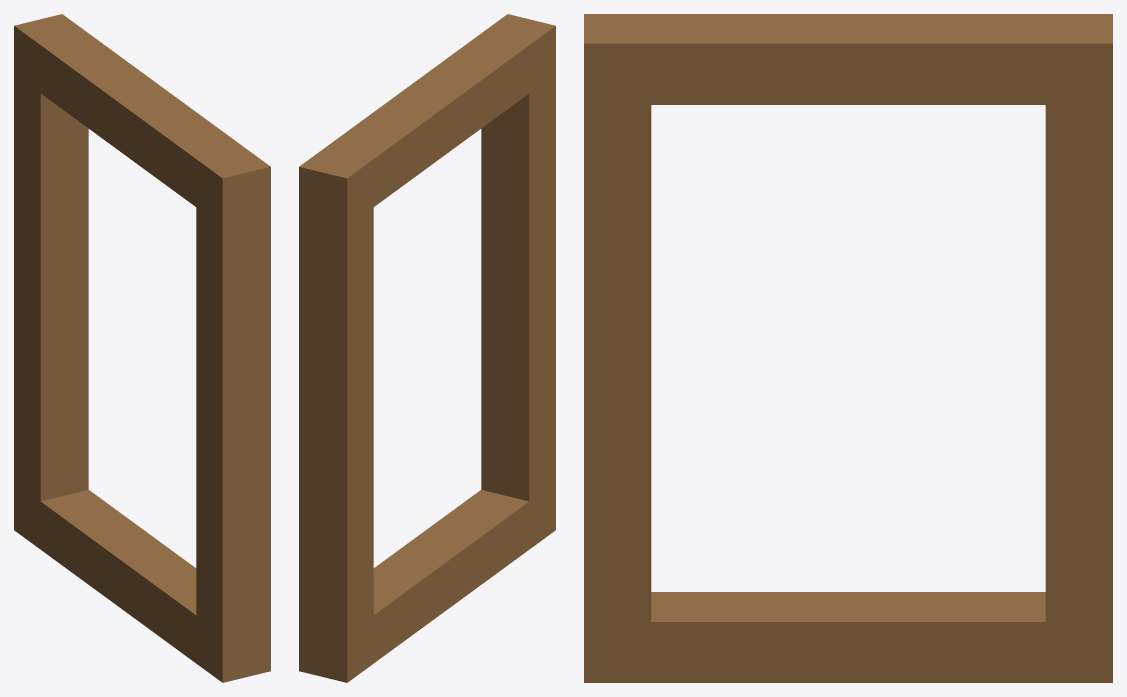
File: detail.dae
The picture shows the model from 3 angles, left to right: view 1: azimuth 30°, elevation 25°; view 2: azimuth 150°, elevation 25°; view 3: azimuth 270°, elevation 25°; orthographic projection. The views are drawn at different scales.
Visible parts, largest first — view 1: detail; view 2: detail; view 3: detail.
Boxes of the visible parts, box(x1,y1,x2,y2) form: detail: box(14, 14, 270, 682); detail: box(299, 14, 555, 682); detail: box(584, 14, 1112, 682).
Bounding box in the file's own units: 0.05 × 0.5 × 0.375.
